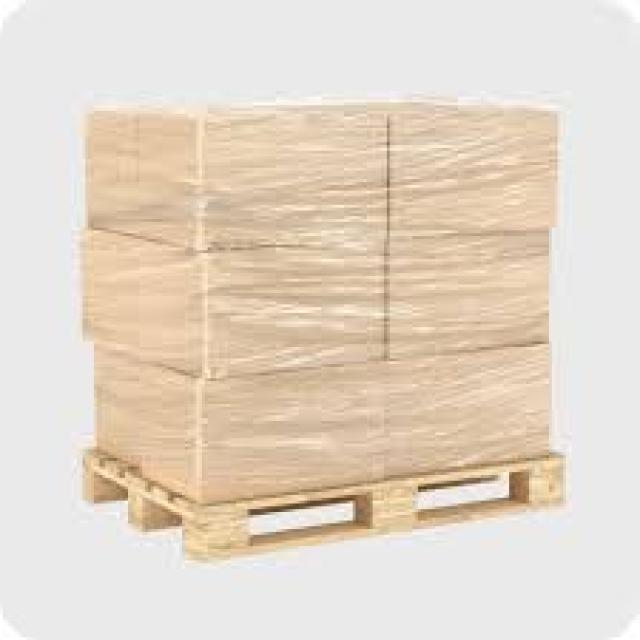cardboxes: (91, 343, 385, 506), (82, 231, 386, 379), (85, 106, 387, 254), (383, 344, 553, 477), (387, 110, 560, 235), (386, 233, 551, 359)
